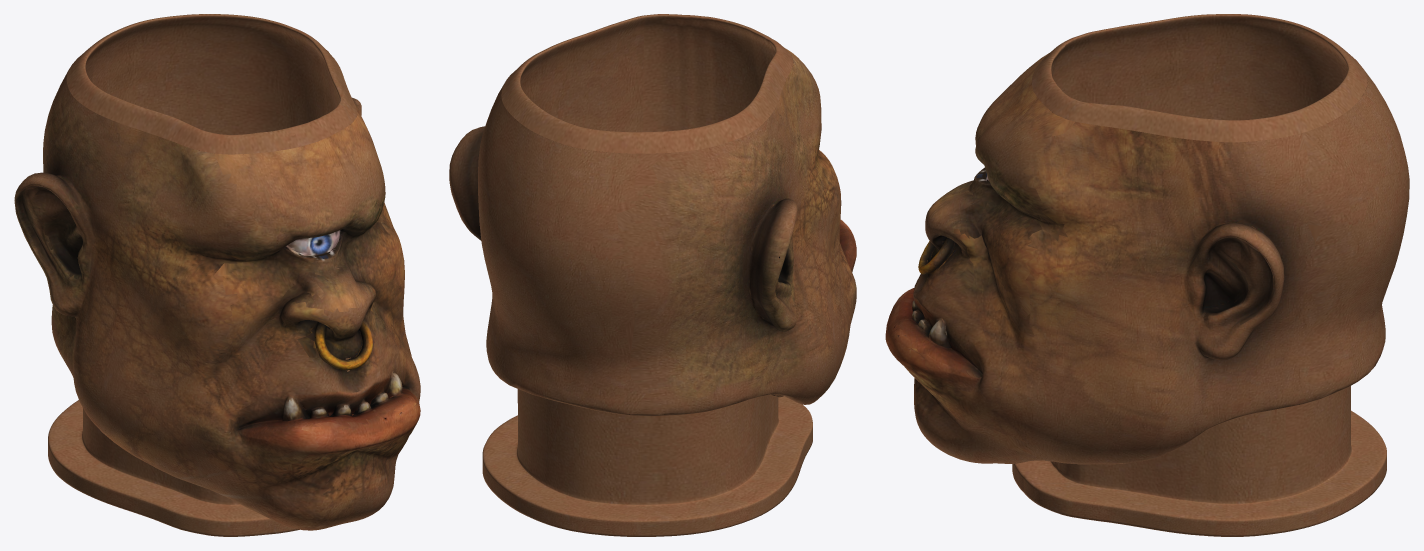
Rendered from cyclops.glb.
The picture shows the model from 3 angles, left to right: view 1: azimuth 30°, elevation 25°; view 2: azimuth 150°, elevation 25°; view 3: azimuth 270°, elevation 25°; orthographic projection. The views are drawn at different scales.
Visible parts, largest first — view 1: Object_2; view 2: Object_2; view 3: Object_2.
Boxes of the visible parts, x1,y1,x2,y2 form: Object_2: (14,14,420,536); Object_2: (449,14,856,536); Object_2: (885,14,1409,536).
Size of the model in its own units: 35.08 by 38.93 by 45.72.
1 material, 1 textured.
